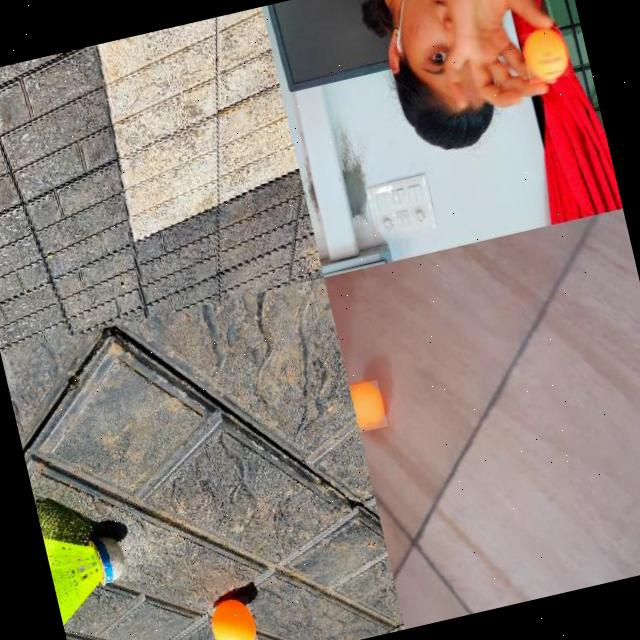ping-pong-ball: (516, 23, 570, 84), (205, 593, 259, 640), (348, 376, 388, 431)
